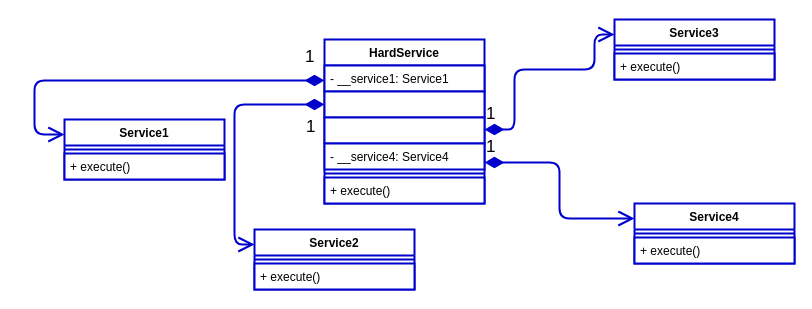
This 812x309 diagram has some shape labels left out. Here are the shapes that lost their labels. From the top down, the centre of each, then its label:
point 404,104: - __service2: Service2
point 404,130: - __service3: Service3
